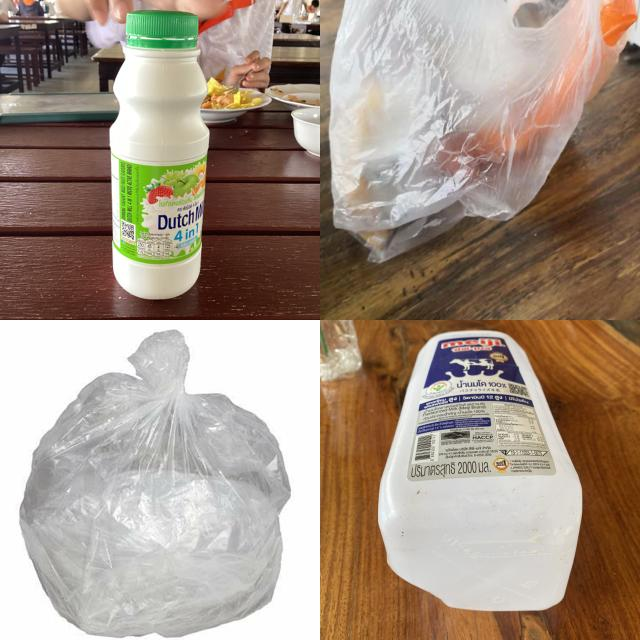HDPE Plastic: (378, 330, 581, 610), (110, 10, 209, 298)
Single-layer Plastic: (20, 331, 290, 636), (329, 0, 634, 262)
